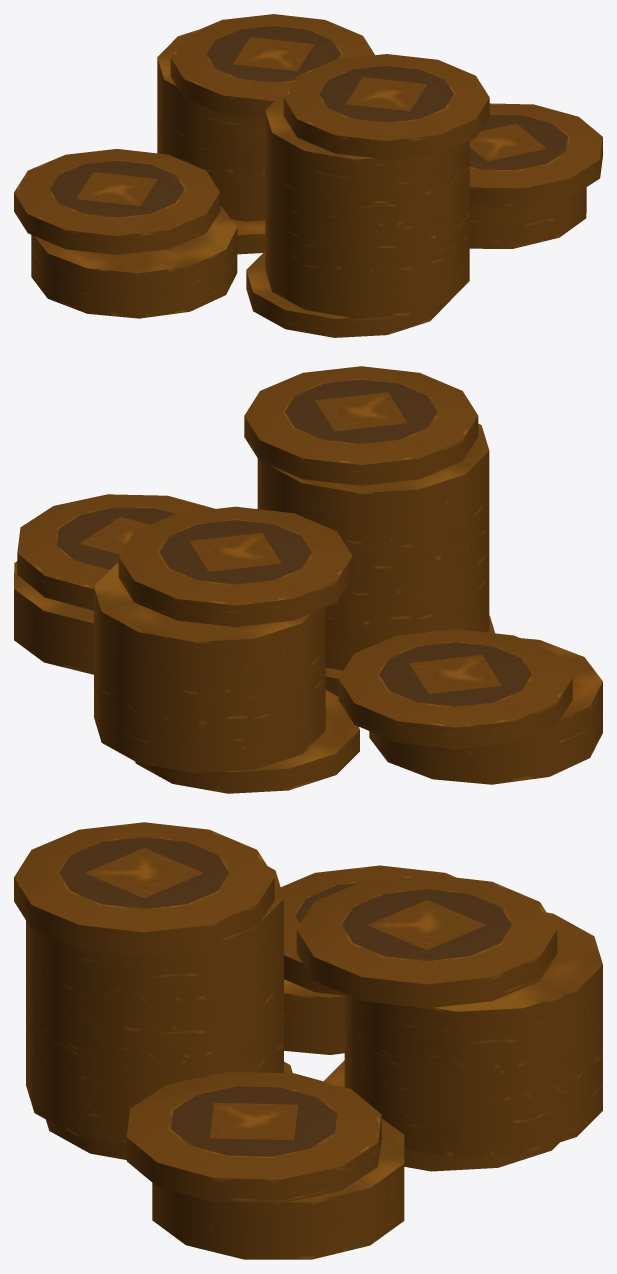
File: coin_pile.glb
3 renders of one model, top to bottom at view 1: azimuth 30°, elevation 25°; view 2: azimuth 150°, elevation 25°; view 3: azimuth 270°, elevation 25°, orthographic. The views are drawn at different scales.
Visible parts, largest first — view 1: Coin_Pile; view 2: Coin_Pile; view 3: Coin_Pile.
Part boxes in pixels (left/top/right/bottom): Coin_Pile: left=14, top=14, right=602, bottom=337; Coin_Pile: left=14, top=366, right=602, bottom=793; Coin_Pile: left=14, top=822, right=602, bottom=1259.
Bounding box in the file's own units: 0.1975 × 0.0735 × 0.1542.
Materials: 1 (1 with a texture image).
